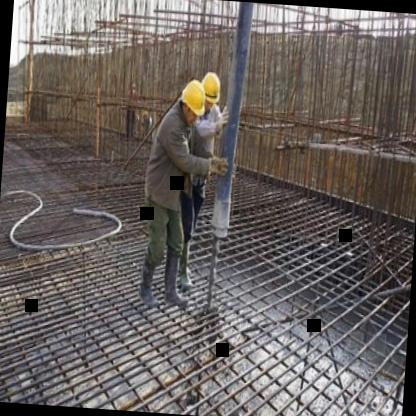helmet: (195, 68, 224, 116), (180, 77, 208, 121)
